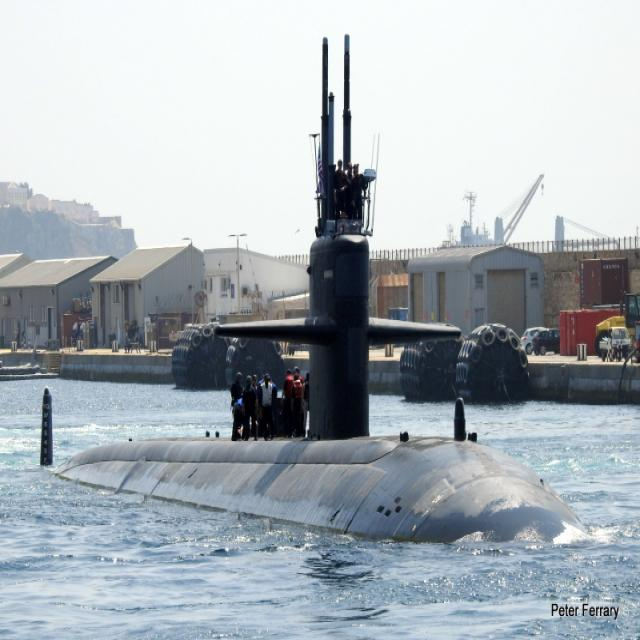submarine: (42, 31, 591, 543)
